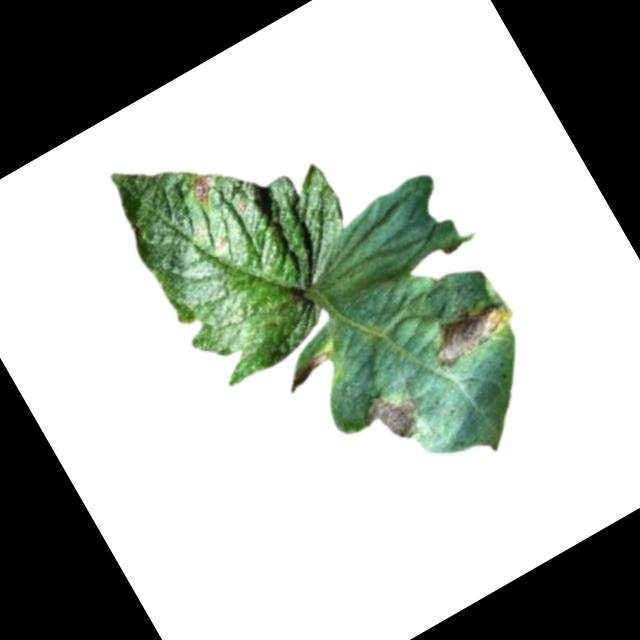Early_blight: (419, 286, 521, 375), (353, 377, 429, 455), (279, 346, 337, 394), (183, 166, 225, 210)
